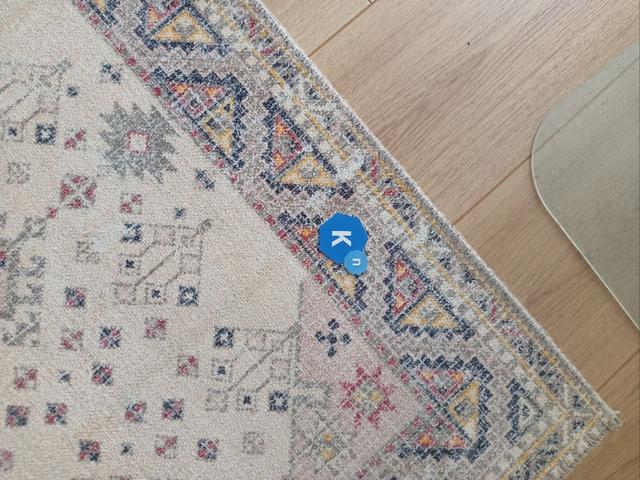knative: (318, 212, 369, 277)
